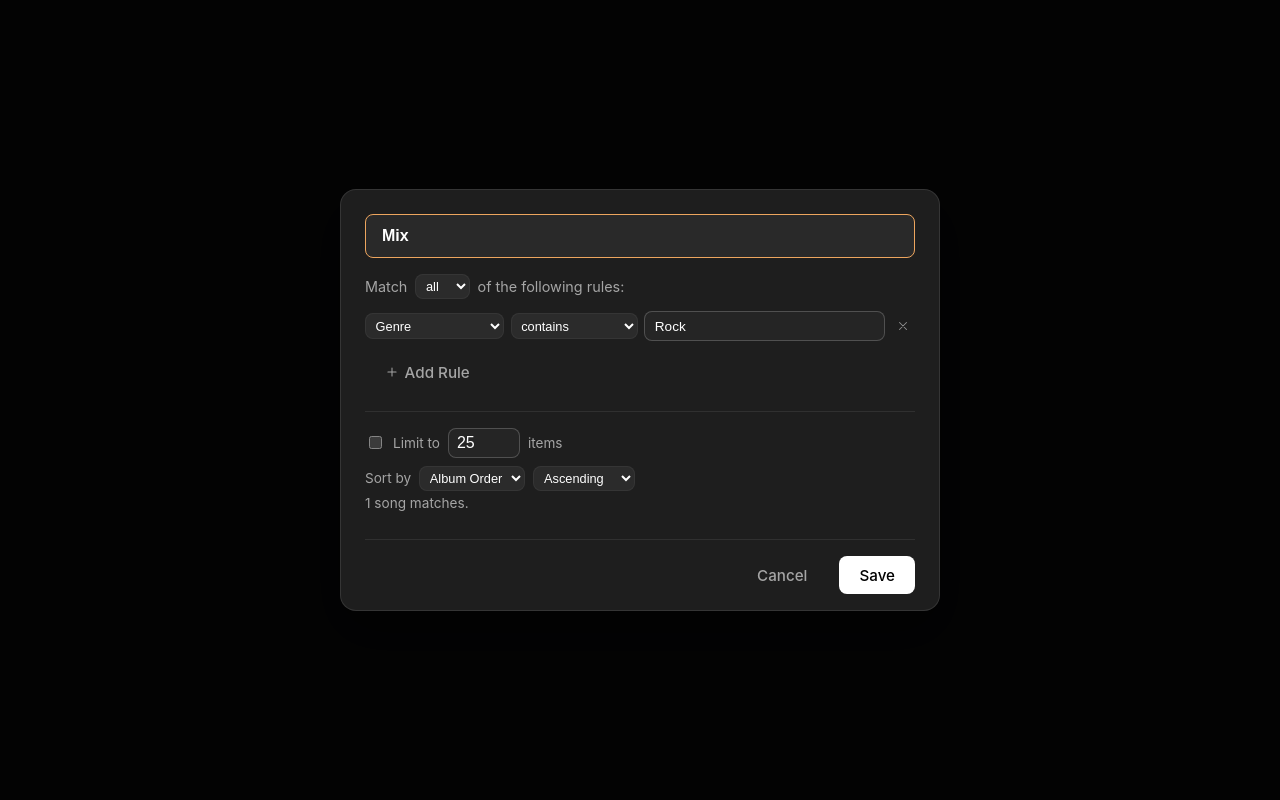
Test: SmartPlaylistModal › removes a rule with its × button
The width and height of the screenshot is (1280, 800).
Expected: the text "1 song matches." is shown, x1=365 y1=495 x2=468 y2=511
What coordinates should you click on to do the following:
click the button named "Remove rule"
I would click on:
 (903, 326)
Its box is x1=891 y1=314 x2=915 y2=338.
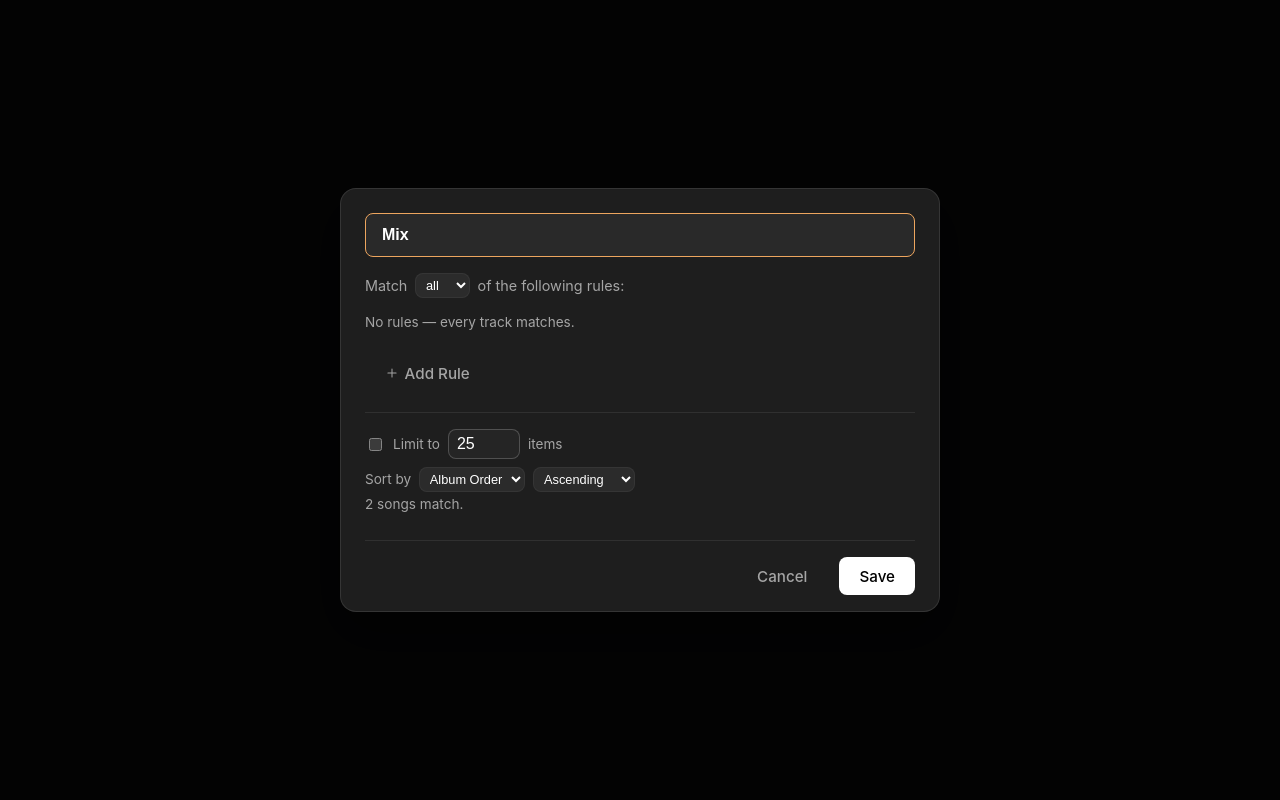
Expected: the text "No rules — every track matches." is shown, x1=365 y1=314 x2=575 y2=330
Expected: the text "2 songs match." is shown, x1=365 y1=496 x2=463 y2=512
